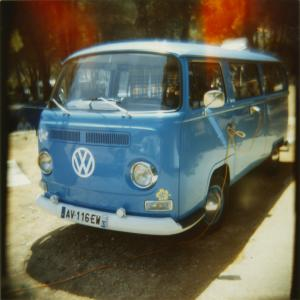Vehicle-registration-plate: (61, 207, 109, 228)
